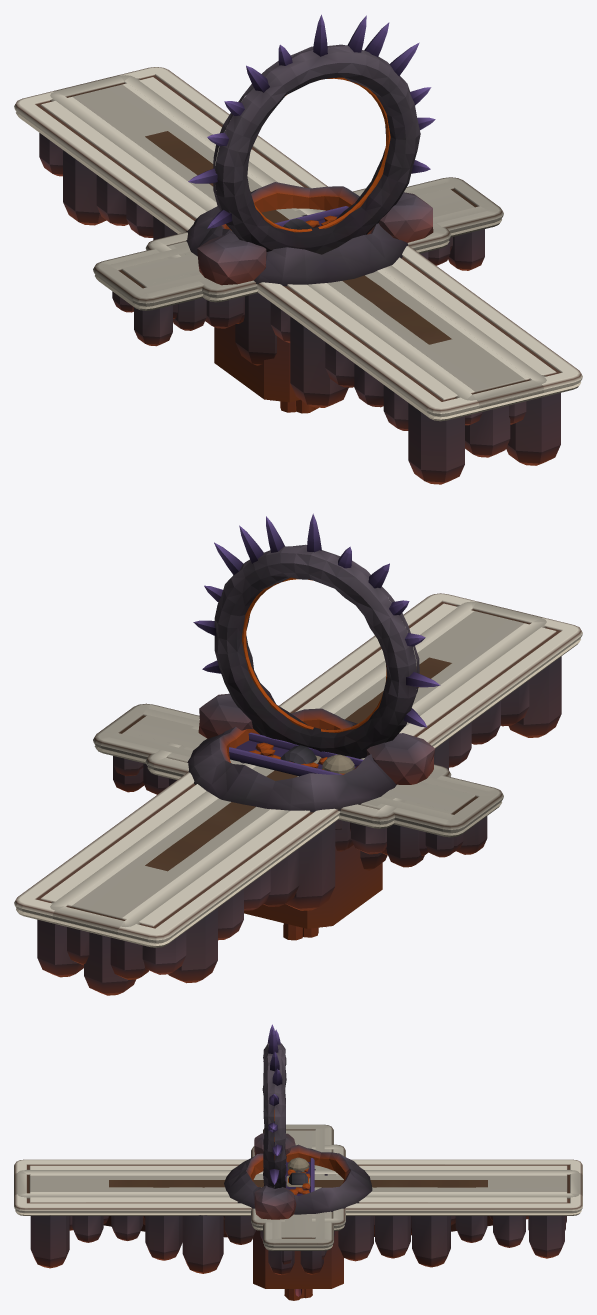
File: volcano-4-sWhz74yF.glb
The picture shows the model from 3 angles, top to bottom: view 1: azimuth 30°, elevation 25°; view 2: azimuth 150°, elevation 25°; view 3: azimuth 270°, elevation 25°; orthographic projection. The views are drawn at different scales.
Visible parts, largest first — view 1: block_10x2x48#0, portal_#0, block_6x2x48#0, geyserVent_8#0, block_24x2x6#0, block_24x2x5#0, beam_1.5x1x32#0, block_16x2x8#0, block_8x2x8_ledge#0; view 2: block_10x2x48#0, portal_#0, block_6x2x48#0, geyserVent_8#0, block_24x2x6#0, block_24x2x5#0, block_8x2x8_ledge#0, block_16x2x8#0, beam_1.5x1x32#0, burner_8x1.2x2#0; view 3: block_10x2x48#0, block_6x2x48#0, portal_#0, geyserVent_8#0, block_24x2x5#0, block_8x2x8_ledge#0, beam_1.5x1x32#0, block_24x2x6#0, block_16x2x8#0, burner_8x1.2x2#0.
Part boxes in pixels (x1=…): block_10x2x48#0: x1=14, y1=67, x2=582, y2=484; portal_#0: x1=188, y1=14, x2=435, y2=285; block_6x2x48#0: x1=50, y1=75, x2=546, y2=425; geyserVent_8#0: x1=186, y1=182, x2=408, y2=286; block_24x2x6#0: x1=93, y1=177, x2=503, y2=346; block_24x2x5#0: x1=99, y1=181, x2=495, y2=323; beam_1.5x1x32#0: x1=145, y1=131, x2=451, y2=344; block_16x2x8#0: x1=145, y1=188, x2=451, y2=328; block_8x2x8_ledge#0: x1=214, y1=324, x2=299, y2=402; block_10x2x48#0: x1=14, y1=593, x2=582, y2=995; portal_#0: x1=193, y1=513, x2=440, y2=784; block_6x2x48#0: x1=50, y1=601, x2=546, y2=979; geyserVent_8#0: x1=187, y1=708, x2=396, y2=812; block_24x2x6#0: x1=93, y1=703, x2=503, y2=867; block_24x2x5#0: x1=101, y1=707, x2=497, y2=855; block_8x2x8_ledge#0: x1=244, y1=845, x2=382, y2=928; block_16x2x8#0: x1=145, y1=726, x2=451, y2=854; beam_1.5x1x32#0: x1=145, y1=657, x2=451, y2=871; burner_8x1.2x2#0: x1=229, y1=732, x2=362, y2=776; block_10x2x48#0: x1=14, y1=1159, x2=582, y2=1273; block_6x2x48#0: x1=14, y1=1169, x2=582, y2=1236; portal_#0: x1=254, y1=1024, x2=296, y2=1219; geyserVent_8#0: x1=224, y1=1144, x2=372, y2=1214; block_24x2x5#0: x1=272, y1=1124, x2=324, y2=1274; block_8x2x8_ledge#0: x1=253, y1=1230, x2=343, y2=1288; beam_1.5x1x32#0: x1=109, y1=1180, x2=487, y2=1187; block_24x2x6#0: x1=263, y1=1124, x2=333, y2=1274; block_16x2x8#0: x1=251, y1=1144, x2=345, y2=1240; burner_8x1.2x2#0: x1=285, y1=1158, x2=314, y2=1195.
Bounding box in the file's own units: 24 × 25.06 × 48.
